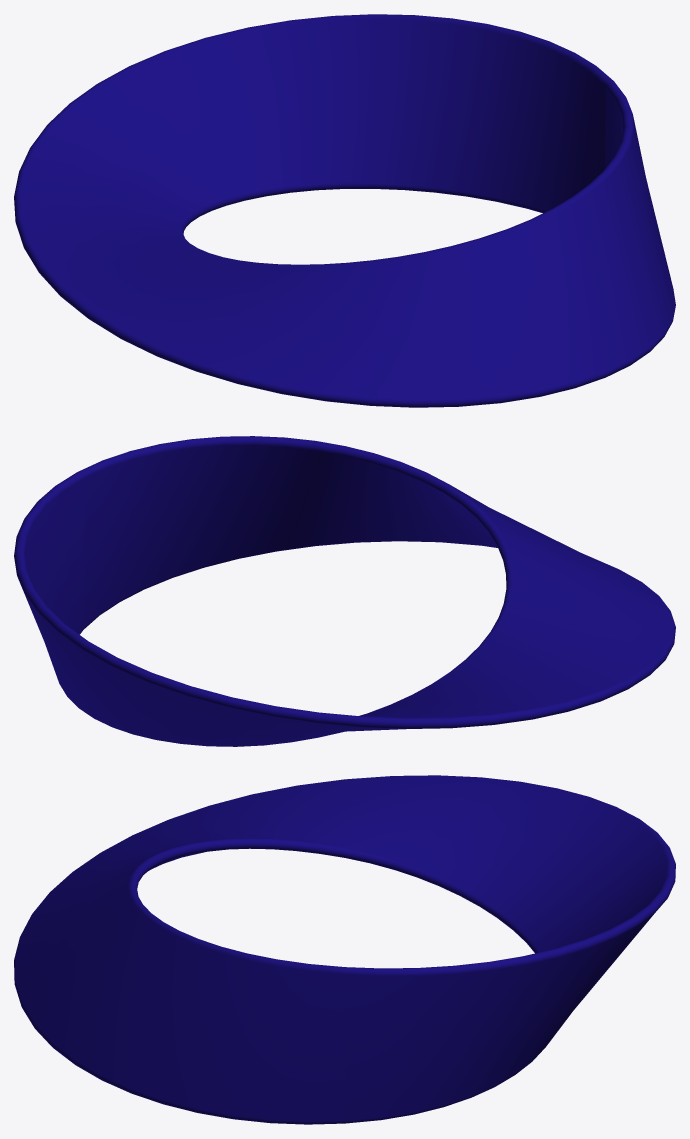
The model's file is Moebius.fbx.
3 renders of one model, top to bottom at view 1: azimuth 30°, elevation 25°; view 2: azimuth 150°, elevation 25°; view 3: azimuth 270°, elevation 25°, orthographic. The views are drawn at different scales.
Visible parts, largest first — view 1: Moebius; view 2: Moebius; view 3: Moebius.
Boxes of the visible parts, <box> form: Moebius: <box>14,14,675,407</box>; Moebius: <box>14,436,675,746</box>; Moebius: <box>14,775,675,1124</box>.
Bounding box in the file's own units: 235 × 64 × 247.
